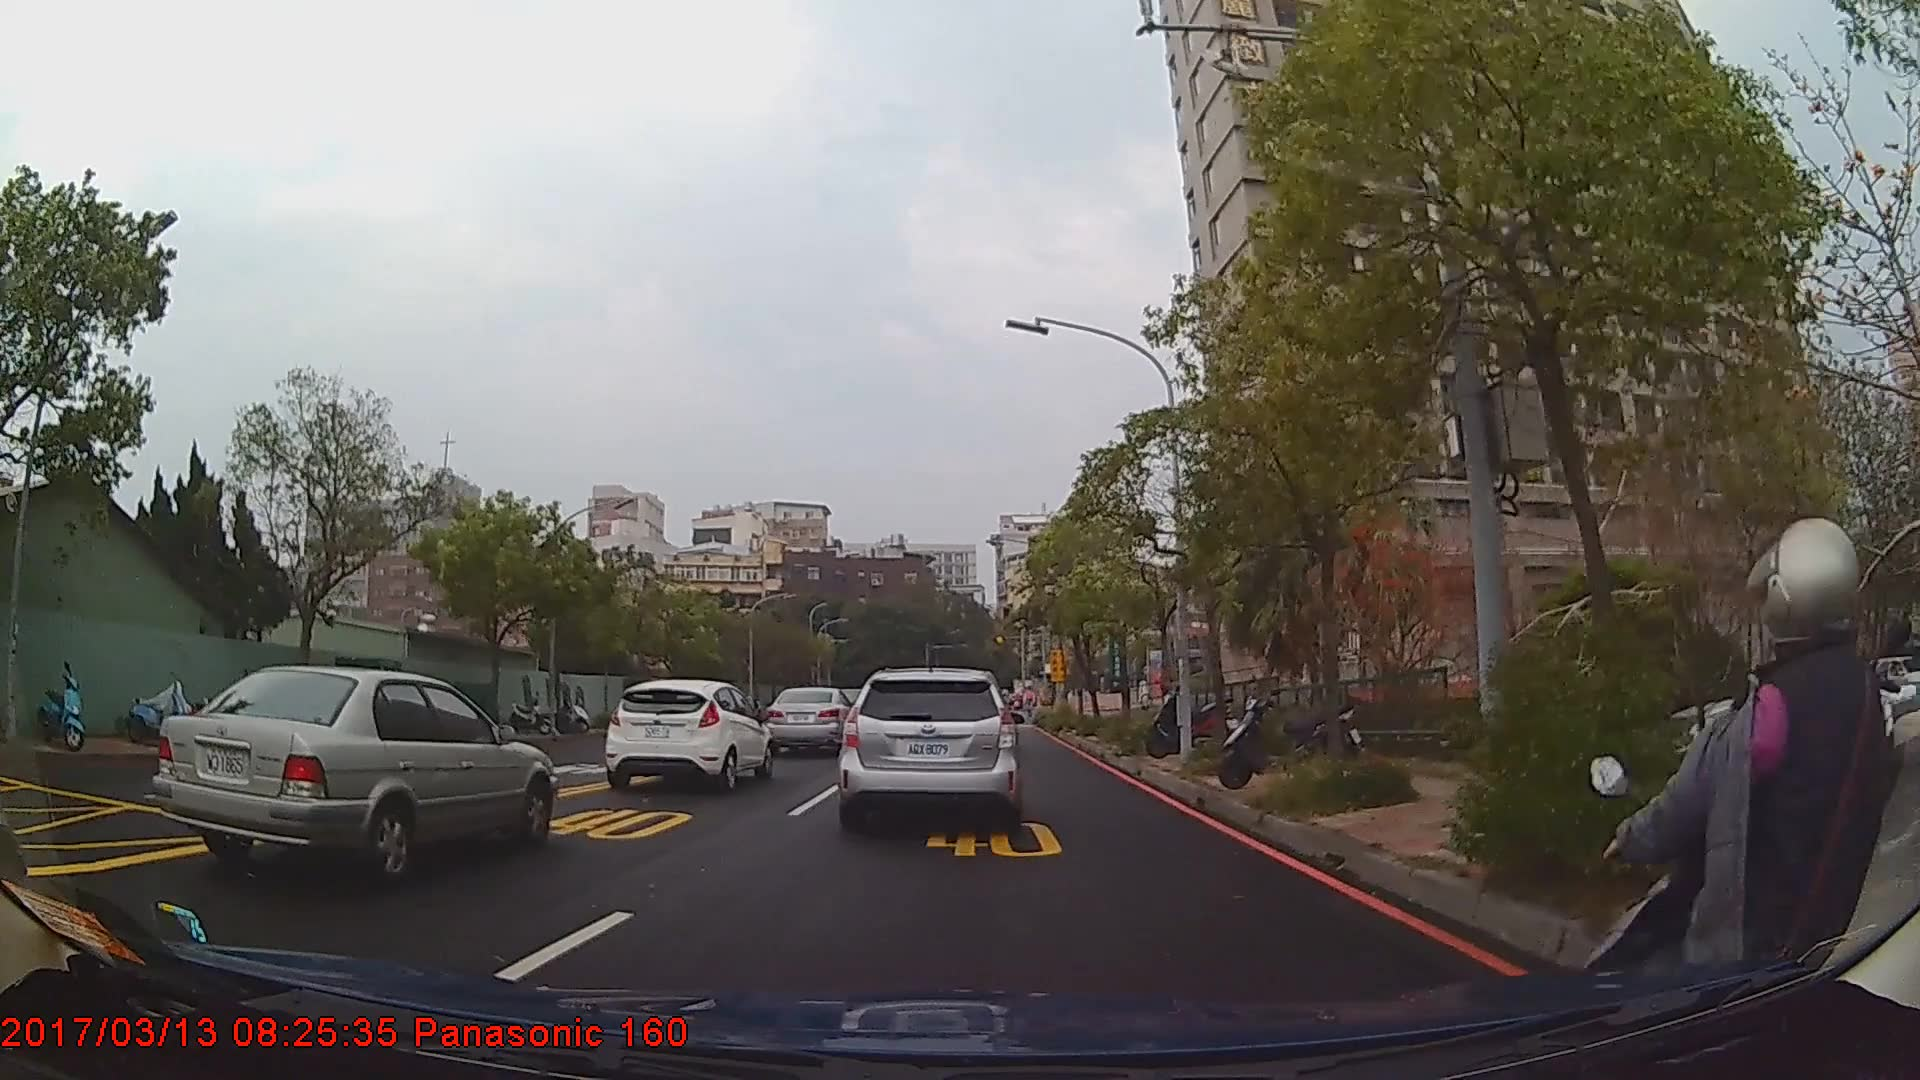rider: (1583, 509, 1920, 1080)
vehicle: (149, 664, 560, 879), (840, 664, 1019, 824), (604, 677, 775, 789), (767, 686, 859, 754)
